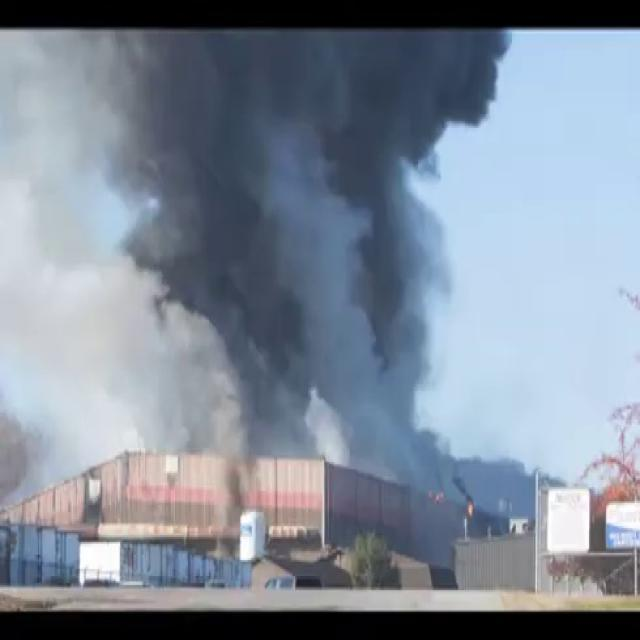Smoke: (71, 30, 506, 482)
